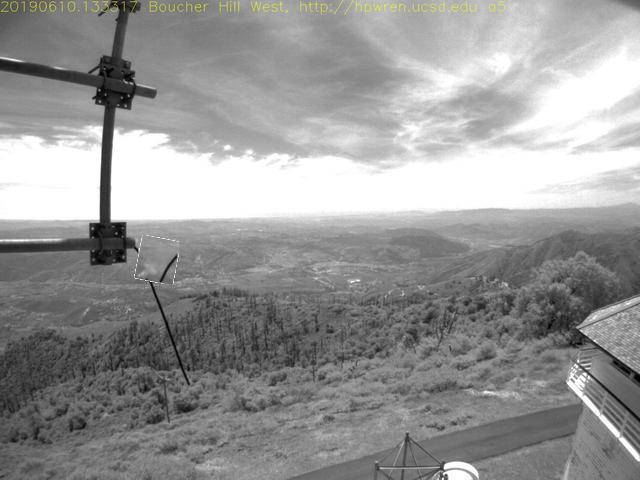smoke: (137, 238, 180, 285)
